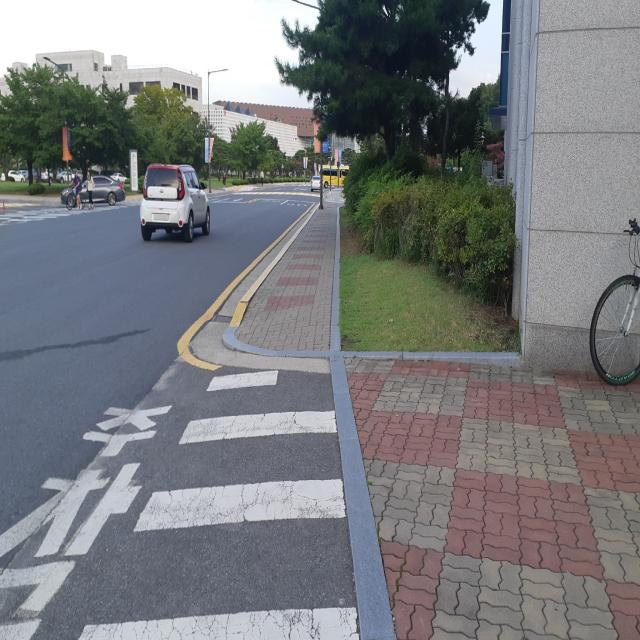횡단보도: (78, 365, 363, 640)
